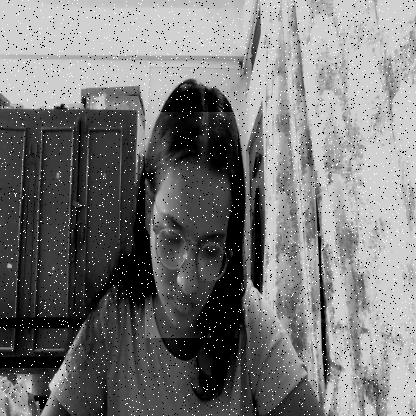Distracted: (145, 113, 238, 338)
